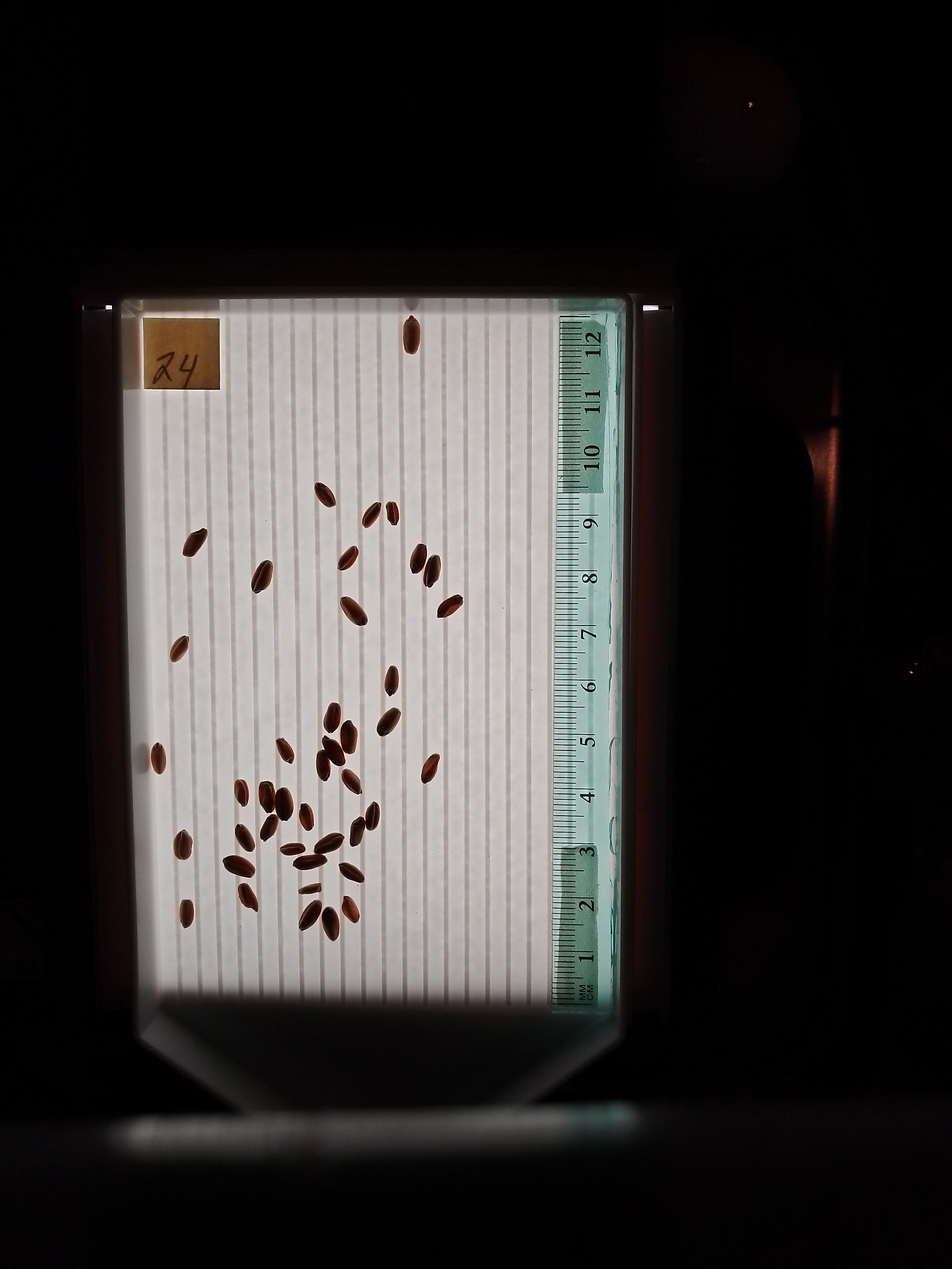seed mask: (340, 597, 367, 626), (182, 528, 208, 557), (251, 560, 273, 594), (402, 316, 421, 354), (224, 854, 254, 878), (377, 708, 400, 736), (299, 901, 321, 930), (275, 788, 294, 821), (340, 720, 358, 754), (173, 831, 193, 861), (420, 754, 440, 784), (322, 908, 340, 941), (323, 739, 345, 766), (315, 833, 343, 854), (294, 853, 326, 871), (438, 595, 463, 618), (238, 884, 259, 911), (423, 556, 441, 587), (235, 824, 254, 852), (314, 483, 335, 508), (342, 768, 362, 794), (150, 744, 167, 774), (410, 544, 427, 574), (324, 703, 341, 733), (338, 546, 358, 571), (170, 636, 189, 662), (276, 737, 295, 763), (342, 896, 360, 923), (340, 863, 364, 883), (261, 814, 278, 842), (362, 502, 381, 527), (349, 818, 365, 847), (259, 782, 274, 812), (316, 751, 331, 781), (385, 666, 400, 695), (299, 803, 314, 831), (179, 900, 194, 928), (365, 803, 380, 830), (234, 779, 249, 806), (281, 842, 304, 857), (386, 502, 400, 525)
